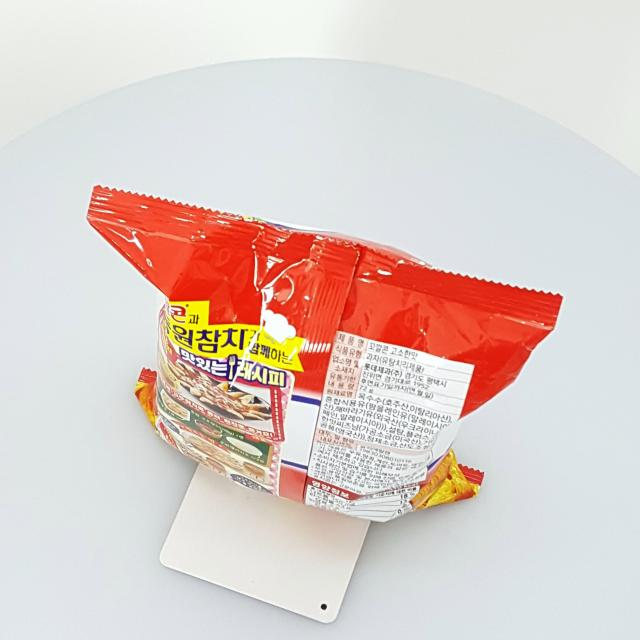-72G: (87, 186, 564, 524)
